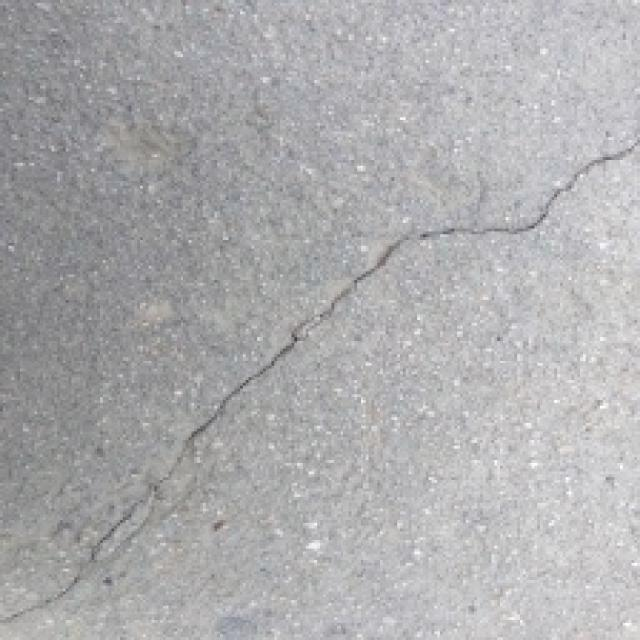SurfaceCrack: (4, 106, 628, 626)
